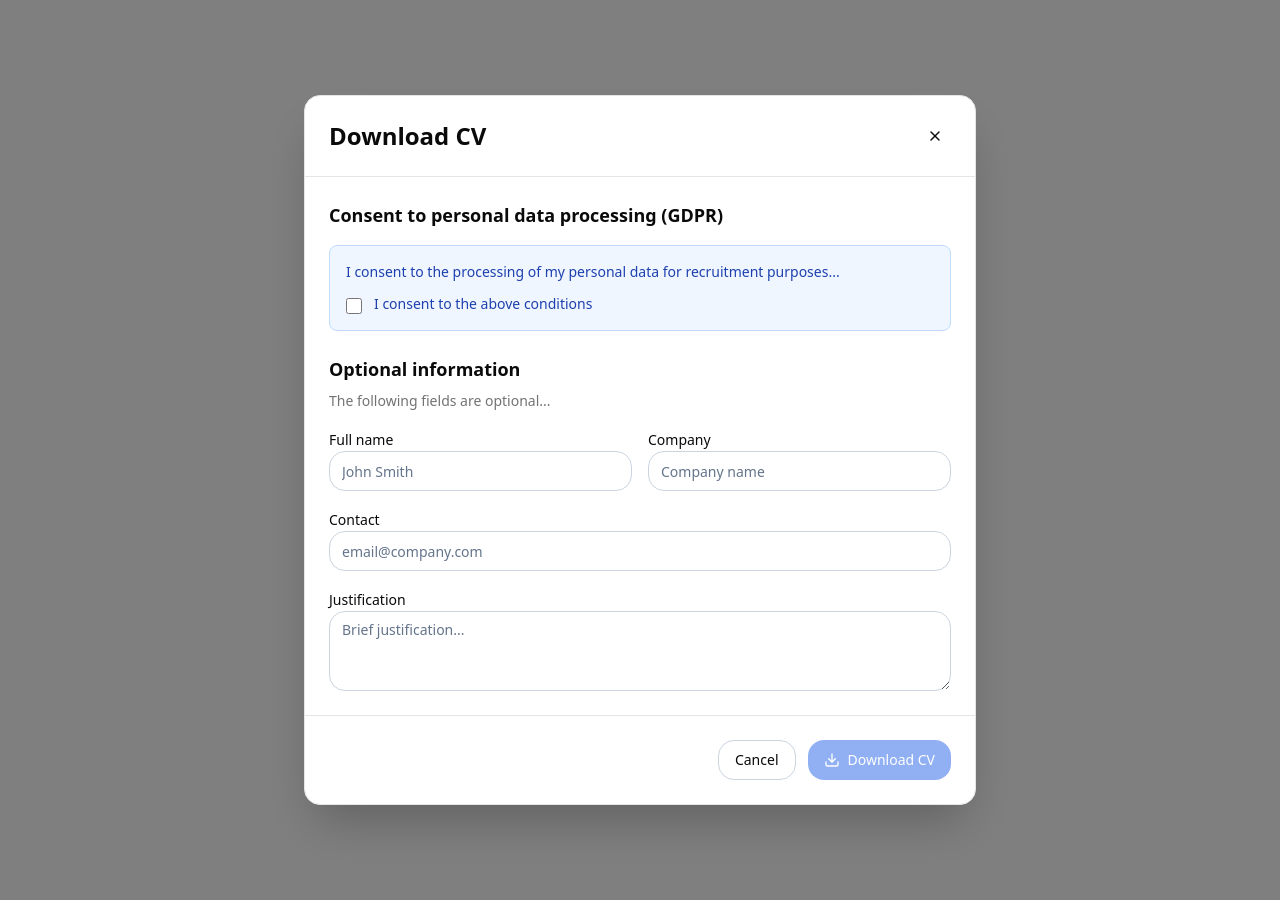
CvDownloadModal › should require GDPR consent to enable download button
Check: the button "Download CV" is disabled, box [808,740,951,780]
Click the checkbox: [354, 306] box [346,298,362,314]
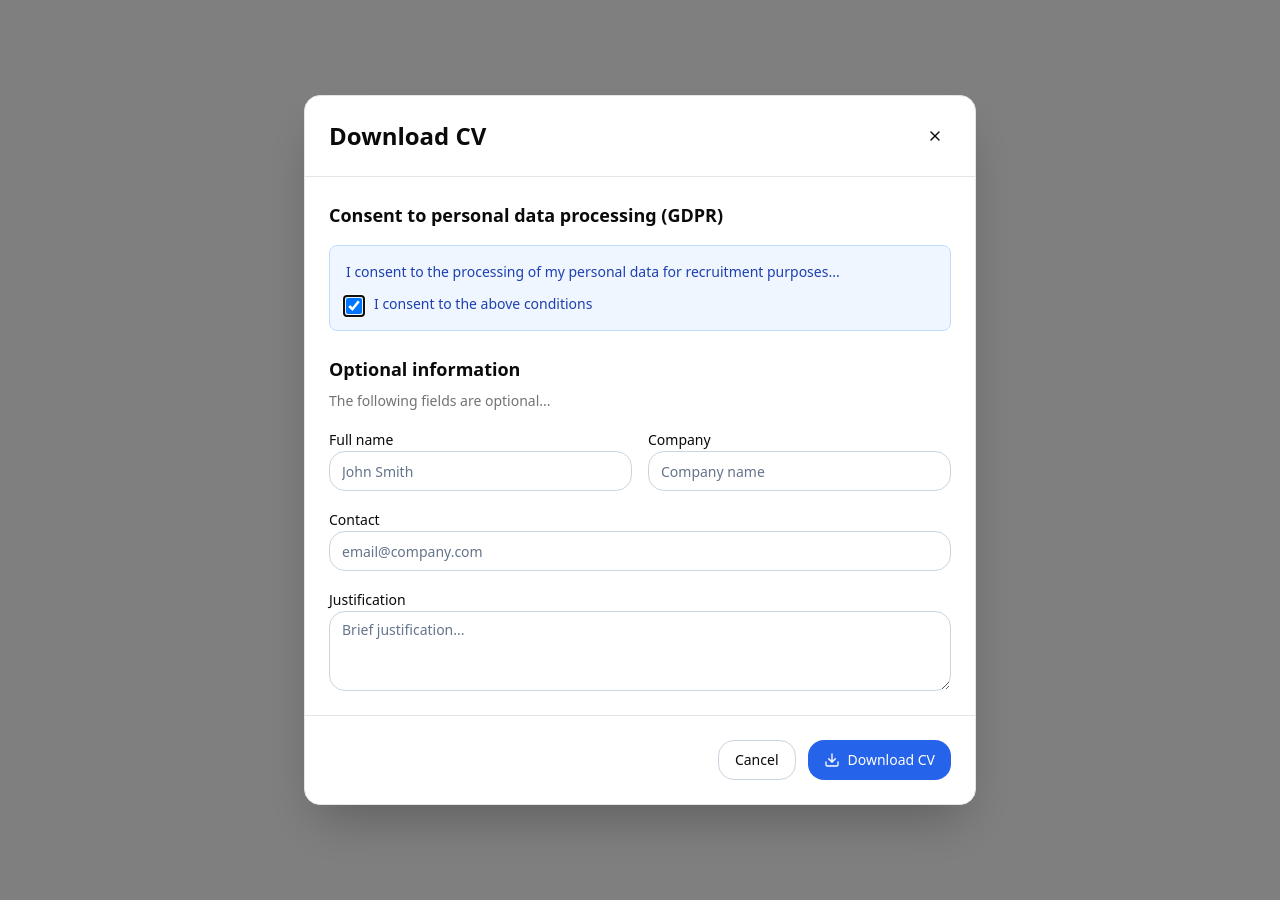
Check: the button "Download CV" is enabled, box [808,740,951,780]
